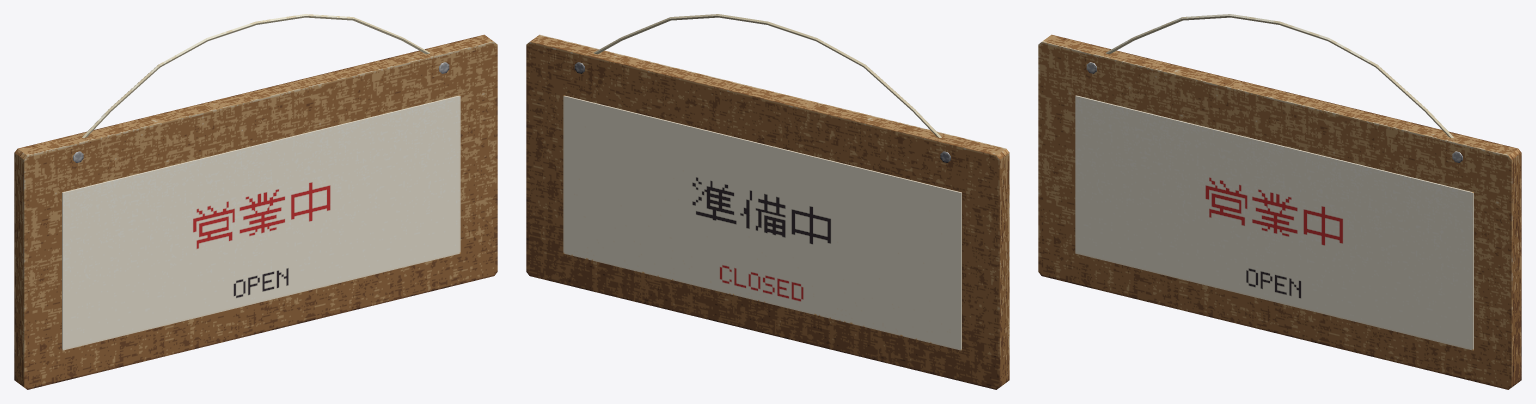
File: open_sign.glb
3 renders of one model, left to right at view 1: azimuth 30°, elevation 25°; view 2: azimuth 150°, elevation 25°; view 3: azimuth 330°, elevation 25°, orthographic.
Parts seen in each view (by area): view 1: body; view 2: body; view 3: body.
Boxes of the visible parts, left/top/right/bottom form: body: left=14, top=14, right=497, bottom=389; body: left=526, top=14, right=1009, bottom=389; body: left=1038, top=14, right=1521, bottom=389.
Size of the model in its own units: 0.44 by 0.2735 by 0.0185.
2 materials, 2 textured.
